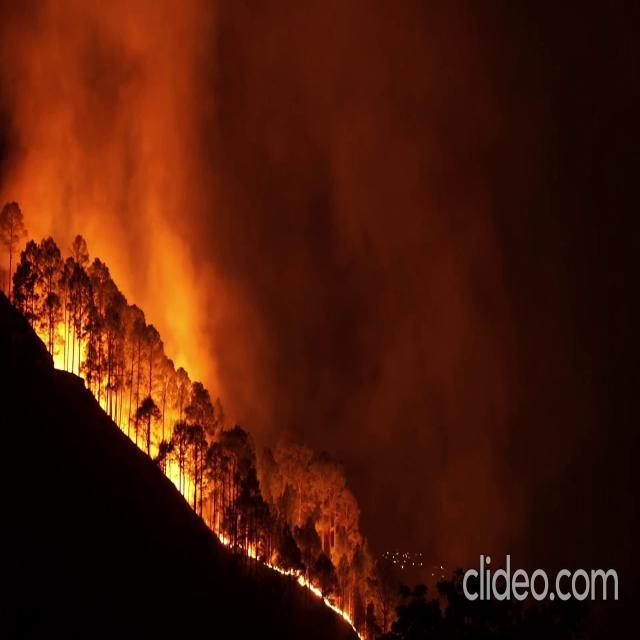Fire: (44, 304, 89, 394), (297, 568, 354, 634), (95, 369, 134, 449), (166, 444, 202, 524)
Smoke: (1, 1, 570, 519)
